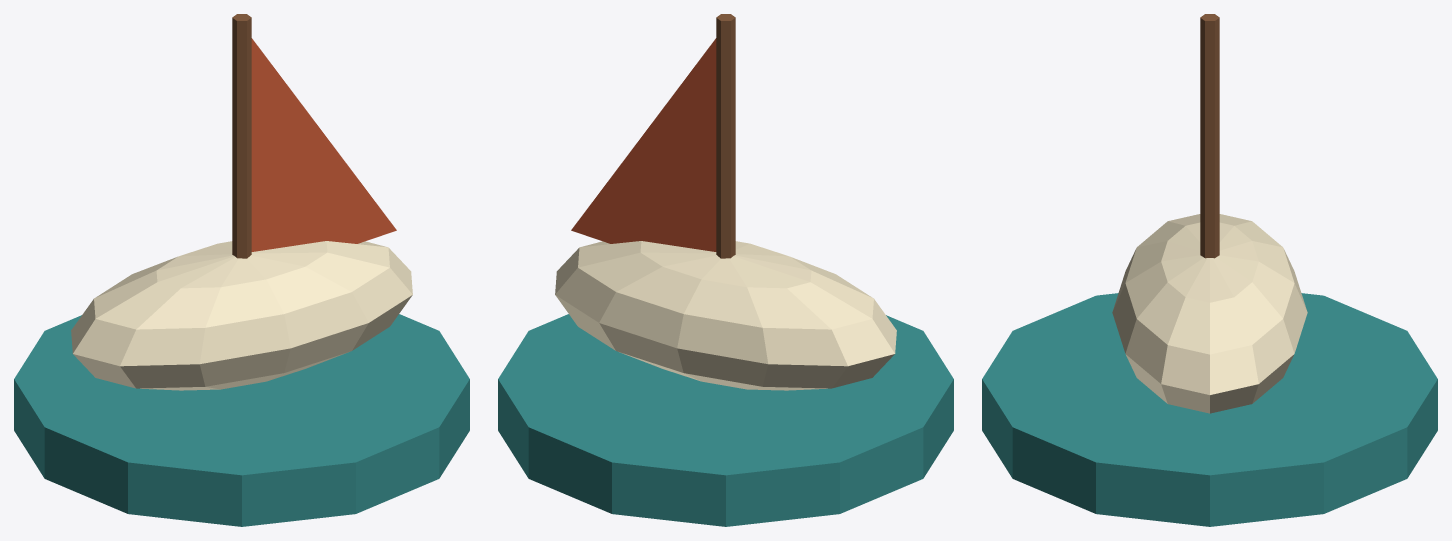
Rendered from regatta_boat.glb.
3 views of the same model, side by side, from view 1: azimuth 30°, elevation 25°; view 2: azimuth 150°, elevation 25°; view 3: azimuth 270°, elevation 25° (orthographic).
Visible parts, largest first — view 1: Mooring island, Toy hull, Sail, Mast; view 2: Mooring island, Toy hull, Sail, Mast; view 3: Mooring island, Toy hull, Mast.
Part boxes in pixels (<box>): Mooring island: <box>14,314,469,526</box>; Toy hull: <box>71,241,412,390</box>; Sail: <box>251,38,396,251</box>; Mast: <box>232,14,251,258</box>; Mooring island: <box>498,314,953,526</box>; Toy hull: <box>555,241,896,390</box>; Sail: <box>571,38,716,251</box>; Mast: <box>716,14,735,258</box>; Mooring island: <box>982,293,1437,526</box>; Toy hull: <box>1112,214,1307,413</box>; Mast: <box>1200,14,1219,258</box>.
Size of the model in its own units: 0.56 by 0.56 by 0.56.
